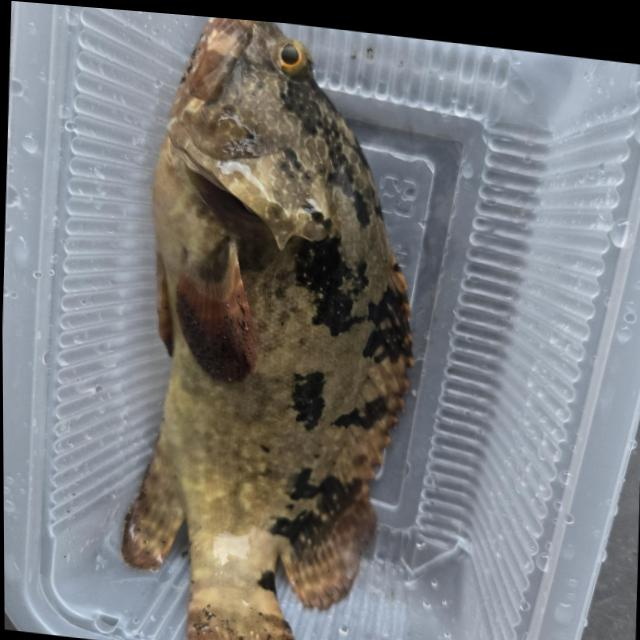Groupers: (113, 9, 432, 640)
